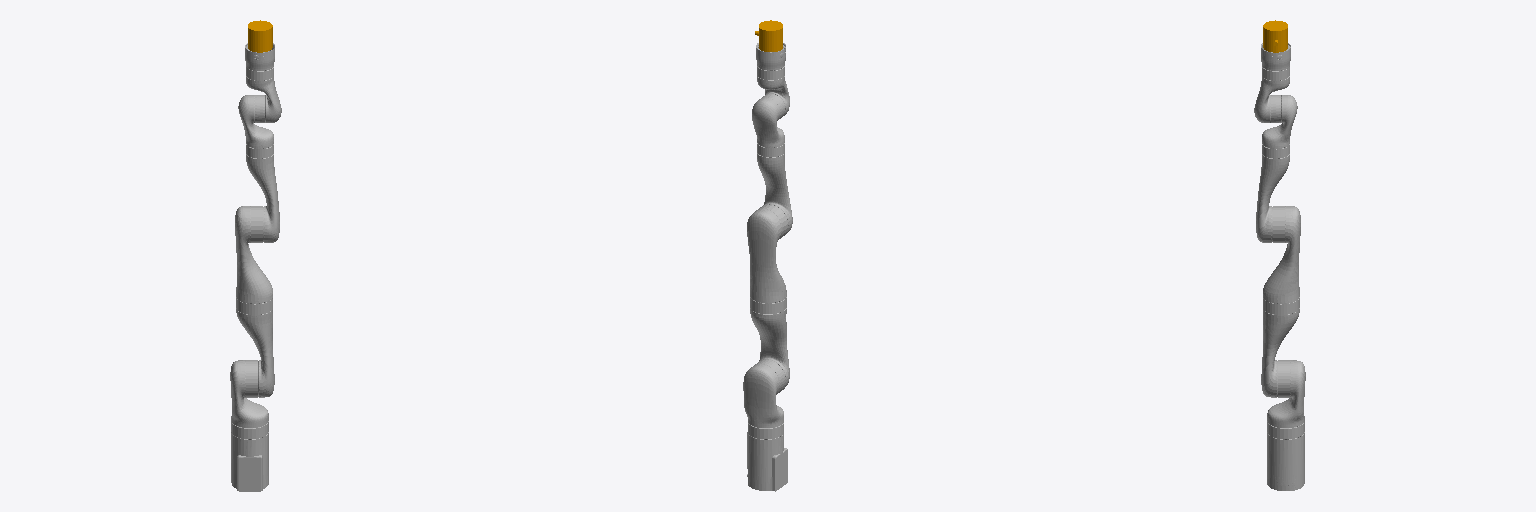
robot.urdf — kinova:
<?xml version='1.0' encoding='utf-8'?>
<robot name="kinova" version="1.0">
  <link name="link0">
    <inertial>
      <origin xyz="-0.000648 -0.000166 0.084487" rpy="0 0 0" />
      <mass value="1.697" />
      <inertia ixx="0.004622" ixy="0.000009" ixz="0.000060" iyy="0.004495" iyz="0.000009" izz="0.002079" />
    </inertial>
    <visual>
      <origin xyz="0 0 0" rpy="0 0 0" />
      <geometry>
        <mesh filename="../../urdf_models/mmp_panda/meshes/base_link.obj" />
      </geometry>
      <material name="">
        <color rgba="0.75294 0.75294 0.75294 1" />
      </material>
    </visual>
    <!-- <collision>
      <origin xyz="0 0 0" rpy="0 0 0" />
      <geometry>
        <mesh filename="../../urdf_models/mmp_panda/meshes/base_link.obj" />
      </geometry>
    </collision> -->
  </link>

  <link name="link1">
    <inertial>
      <origin xyz="-0.000023 -0.010364 -0.073360" rpy="0 0 0" />
      <mass value="1.377" />
      <inertia ixx="0.004570" ixy="0.000001" ixz="0.000002" iyy="0.004831" iyz="0.000448" izz="0.001409" />
    </inertial>
    <visual>
      <origin xyz="0 0 0" rpy="0 0 0" />
      <geometry>
        <mesh filename="../../urdf_models/mmp_panda/meshes/Shoulder_Link.obj" />
      </geometry>
      <material name="">
        <color rgba="0.75294 0.75294 0.75294 1" />
      </material>
    </visual>
    <!-- <collision>
      <origin xyz="0 0 0" rpy="0 0 0" />
      <geometry>
        <mesh filename="../../urdf_models/mmp_panda/meshes/Shoulder_Link.obj" />
      </geometry>
    </collision> -->
  </link>

  <link name="link2">
    <inertial>
      <origin xyz="-0.000044 -0.099580 -0.013278" rpy="0 0 0" />
      <mass value="1.1636" />
      <inertia ixx="0.011088" ixy="0.000005" ixz="0.0" iyy="0.001072" iyz="-0.000691" izz="0.011255" />
    </inertial>
    <visual>
      <origin xyz="0 0 0" rpy="0 0 0" />
      <geometry>
        <mesh filename="../../urdf_models/mmp_panda/meshes/HalfArm1_Link.obj" />
      </geometry>
      <material name="">
        <color rgba="0.75294 0.75294 0.75294 1" />
      </material>
    </visual>
    <!-- <collision>
      <origin xyz="0 0 0" rpy="0 0 0" />
      <geometry>
        <mesh filename="../../urdf_models/mmp_panda/meshes/HalfArm1_Link.obj" />
      </geometry>
    </collision> -->
  </link>

  <link name="link3">
    <inertial>
      <origin xyz="-0.000044 -0.006641 -0.117892" rpy="0 0 0" />
      <mass value="1.1636" />
      <inertia ixx="0.010932" ixy="0.0" ixz="-0.000007" iyy="0.011127" iyz="0.000606" izz="0.001043" />
    </inertial>
    <visual>
      <origin xyz="0 0 0" rpy="0 0 0" />
      <geometry>
        <mesh filename="../../urdf_models/mmp_panda/meshes/HalfArm2_Link.obj" />
      </geometry>
      <material name="">
        <color rgba="0.75294 0.75294 0.75294 1" />
      </material>
    </visual>
    <!-- <collision>
      <origin xyz="0 0 0" rpy="0 0 0" />
      <geometry>
        <mesh filename="../../urdf_models/mmp_panda/meshes/HalfArm2_Link.obj" />
      </geometry>
    </collision> -->
  </link>

  <link name="link4">
    <inertial>
      <origin xyz="-0.000018 -0.075478 -0.015006" rpy="0 0 0" />
      <mass value="0.93" />
      <inertia ixx="0.008147" ixy="-0.000001" ixz="0.0" iyy="0.000631" iyz="-0.000500" izz="0.008316" />
    </inertial>
    <visual>
      <origin xyz="0 0 0" rpy="0 0 0" />
      <geometry>
        <mesh filename="../../urdf_models/mmp_panda/meshes/ForeArm_Link.obj" />
      </geometry>
      <material name="">
        <color rgba="0.75294 0.75294 0.75294 1" />
      </material>
    </visual>
    <collision>
      <origin xyz="0 0 0" rpy="0 0 0" />
      <geometry>
        <mesh filename="../../urdf_models/mmp_panda/meshes/ForeArm_Link.obj" />
      </geometry>
    </collision>
  </link>

  <link name="link5">
    <inertial>
      <origin xyz="0.000001 -0.009432 -0.063883" rpy="0 0 0" />
      <mass value="0.678" />
      <inertia ixx="0.001596" ixy="0.0" ixz="0.0" iyy="0.001607" iyz="0.000256" izz="0.000399" />
    </inertial>
    <visual>
      <origin xyz="0 0 0" rpy="0 0 0" />
      <geometry>
        <mesh filename="../../urdf_models/mmp_panda/meshes/SphericalWrist1_Link.obj" />
      </geometry>
      <material name="">
        <color rgba="0.75294 0.75294 0.75294 1" />
      </material>
    </visual>
    <collision>
      <origin xyz="0 0 0" rpy="0 0 0" />
      <geometry>
        <mesh filename="../../urdf_models/mmp_panda/meshes/SphericalWrist1_Link.obj" />
      </geometry>
    </collision>
  </link>

  <link name="link6">
    <inertial>
      <origin xyz="0.000001 -0.045483 -0.009650" rpy="0 0 0" />
      <mass value="0.678" />
      <inertia ixx="0.001641" ixy="0.0" ixz="0.0" iyy="0.000410" iyz="-0.000278" izz="0.001641" />
    </inertial>
    <visual>
      <origin xyz="0 0 0" rpy="0 0 0" />
      <geometry>
        <mesh filename="../../urdf_models/mmp_panda/meshes/SphericalWrist2_Link.obj" />
      </geometry>
      <material name="">
        <color rgba="0.75294 0.75294 0.75294 1" />
      </material>
    </visual>
    <collision>
      <origin xyz="0 0 0" rpy="0 0 0" />
      <geometry>
        <mesh filename="../../urdf_models/mmp_panda/meshes/SphericalWrist2_Link.obj" />
      </geometry>
    </collision>
  </link>

  <link name="link7">
    <inertial>
      <origin xyz="-0.000093 0.000132 -0.022905" rpy="0 0 0" />
      <mass value="0.33" />
      <!-- <mass value="0.364" original mass /> -->
      <inertia ixx="0.000214" ixy="0.0" ixz="0.000001" iyy="0.000223" iyz="-0.000002" izz="0.000240" />
    </inertial>
    <visual>
      <origin xyz="0 0 0" rpy="0 0 0" />
      <geometry>
        <mesh filename="../../urdf_models/mmp_panda/meshes/bracelet_no_vision_link.obj" />
      </geometry>
      <material name="">
        <color rgba="0.75294 0.75294 0.75294 1" />
      </material>
    </visual>
    <collision>
      <origin xyz="0 0 0" rpy="0 0 0" />
      <geometry>
        <mesh filename="../../urdf_models/mmp_panda/meshes/bracelet_no_vision_link.obj" />
      </geometry>
    </collision>
  </link>

  <link name="end-effector">
    <inertial>
      <origin xyz="0 0 -0.005" rpy="0 0 0" />
      <mass value="0.386" />
      <inertia ixx="0" iyy="0.000202" izz="0.000179" ixy="0" ixz="0" iyz="0" />
    </inertial>
    <visual>
      <origin xyz="0 0 0" rpy="0 0 0" />
      <geometry>
        <cylinder radius="0.031" length="0.059" />
      </geometry>
    </visual>
    <visual>
      <origin xyz="0.037425 0 0" rpy="0 1.57079 0" />
      <geometry>
        <cylinder radius="0.00575" length="0.01285" />
      </geometry>
    </visual>
    <collision>
      <origin xyz="0 0 -0.0295" rpy="0 0 0" />
      <geometry>
        <cylinder radius="0.031" length="0.059" />
      </geometry>
    </collision>
  </link>


  <joint name="Actuator1" type="revolute">
    <origin xyz="0 0 0.15643" rpy="3.1416 2.7629E-18 -4.9305E-36" />
    <parent link="link0" />
    <child link="link1" />
    <axis xyz="0 0 1" />
    <limit effort="39" lower="-20.8973" upper="20.8973" velocity="0.8727" />
  </joint>
  <joint name="Actuator2" type="revolute">
    <origin xyz="0 0.005375 -0.12838" rpy="1.5708 2.1343E-17 -1.1102E-16" />
    <parent link="link1" />
    <child link="link2" />
    <axis xyz="0 0 1" />
    <limit effort="39" lower="-2.41" upper="2.41" velocity="0.8727" />
  </joint>
  <joint name="Actuator3" type="revolute">
    <origin xyz="0 -0.21038 -0.006375" rpy="-1.5708 1.2326E-32 -2.9122E-16" />
    <parent link="link2" />
    <child link="link3" />
    <axis xyz="0 0 1" />
    <limit effort="39" lower="-20.8973" upper="20.8973" velocity="0.8727" />
  </joint>
  <joint name="Actuator4" type="revolute">
    <origin xyz="0 0.006375 -0.21038" rpy="1.5708 -6.6954E-17 -1.6653E-16" />
    <parent link="link3" />
    <child link="link4" />
    <axis xyz="0 0 1" />
    <limit lower="-2.66" upper="2.66" effort="39" velocity="0.8727" />
  </joint>
  <joint name="Actuator5" type="revolute">
    <origin xyz="0 -0.20843 -0.006375" rpy="-1.5708 2.2204E-16 -6.373E-17" />
    <parent link="link4" />
    <child link="link5" />
    <axis xyz="0 0 1" />
    <limit effort="9" lower="-20.8973" upper="20.8973" velocity="0.8727" />
  </joint>
  <joint name="Actuator6" type="revolute">
    <origin xyz="0 0.00017505 -0.10593" rpy="1.5708 9.2076E-28 -8.2157E-15" />
    <parent link="link5" />
    <child link="link6" />
    <axis xyz="0 0 1" />
    <limit lower="-2.23" upper="2.23" effort="9" velocity="0.8727" />
  </joint>
  <joint name="Actuator7" type="revolute">
    <origin xyz="0 -0.10593 -0.00017505" rpy="-1.5708 -5.5511E-17 9.6396E-17" />
    <parent link="link6" />
    <child link="link7" />
    <axis xyz="0 0 1" />
    <limit effort="9" lower="-20.8973" upper="20.8973" velocity="0.8727" />
  </joint>
  <joint name="joint_ee" type="fixed">
    <origin xyz="0 0 -0.091" />
    <parent link="link7" />
    <child link="end-effector" />
  </joint>
</robot>

--- What the picture shows (computed from the rendered views, not written in the file) ---
The picture shows the robot from 3 angles, left to right: view 1: azimuth 90°, elevation 25°; view 2: azimuth 150°, elevation 25°; view 3: azimuth 270°, elevation 25°; orthographic projection.
Model kinova with 9 links and 8 joints (7 revolute, 1 fixed), rooted at link0, posed all joints at 0.
Links seen in each view (by area): view 1: link3, link0, link2, link1, link4, link5, link6, end-effector, link7; view 2: link3, link0, link1, link2, link4, link5, link6, end-effector, link7; view 3: link3, link0, link2, link1, link4, link5, link6, end-effector, link7.
Link boxes in pixels (x1,y1,x2,y2): link3: [235, 206, 272, 303]; link0: [231, 421, 268, 491]; link2: [236, 297, 274, 397]; link1: [230, 360, 268, 427]; link4: [246, 144, 279, 242]; link5: [238, 95, 273, 148]; link6: [246, 67, 281, 122]; end-effector: [248, 20, 272, 52]; link7: [245, 43, 274, 70]; link3: [747, 204, 787, 303]; link0: [747, 423, 787, 491]; link1: [743, 360, 785, 427]; link2: [750, 297, 789, 389]; link4: [757, 143, 792, 235]; link5: [752, 93, 784, 147]; link6: [757, 66, 789, 115]; end-effector: [755, 20, 782, 51]; link7: [756, 43, 785, 70]; link3: [1263, 206, 1300, 303]; link0: [1267, 421, 1304, 490]; link2: [1261, 297, 1299, 397]; link1: [1267, 360, 1305, 427]; link4: [1256, 144, 1289, 242]; link5: [1262, 95, 1297, 148]; link6: [1254, 67, 1289, 122]; end-effector: [1263, 20, 1287, 52]; link7: [1261, 43, 1290, 70].
Bounding box of the posed robot: 0.0928 × 0.1267 × 1.25 m (x, y, z).
Meshes: 8 distinct files referenced, 8 mesh visuals loaded (8 OBJ).
